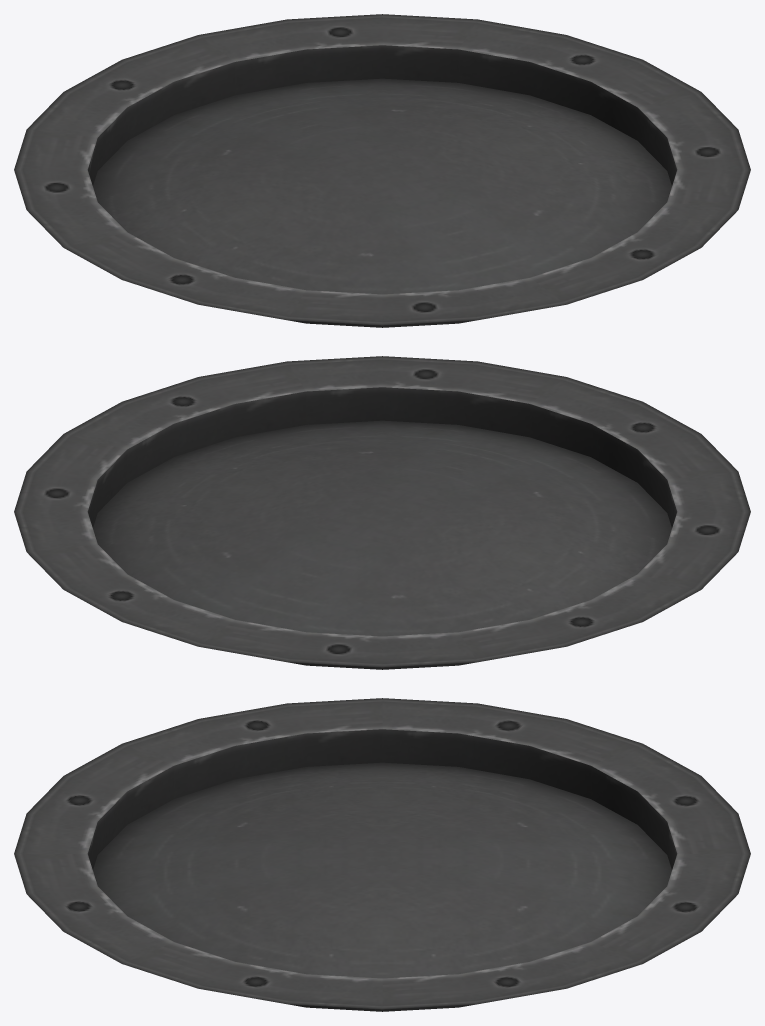
File: end_basic_s1.obj
3 renders of one model, top to bottom at view 1: azimuth 30°, elevation 25°; view 2: azimuth 150°, elevation 25°; view 3: azimuth 270°, elevation 25°, orthographic.
Parts seen in each view (by area): view 1: end; view 2: end; view 3: end.
Part boxes in pixels (x1,y1,x2,y2): end: (14, 14, 750, 327); end: (14, 356, 750, 669); end: (14, 698, 750, 1011).
Size of the model in its own units: 1.25 by 0.0625 by 1.25.
